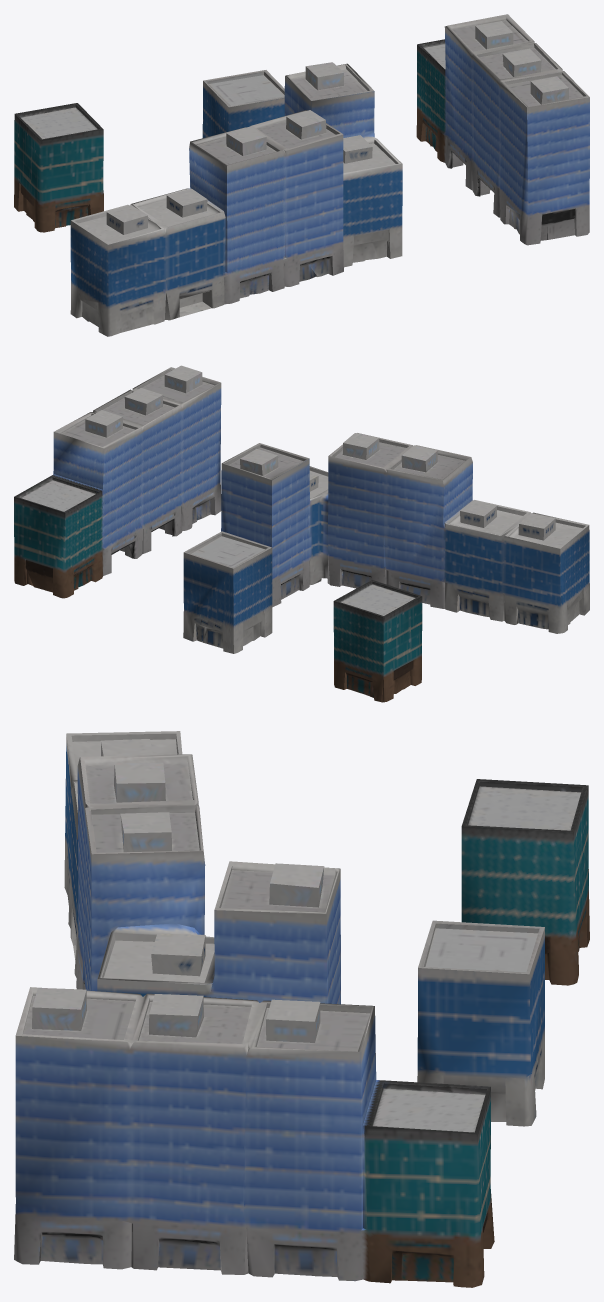
File: clod_town_c03_03_clod000.gltf
3 renders of one model, top to bottom at view 1: azimuth 30°, elevation 25°; view 2: azimuth 150°, elevation 25°; view 3: azimuth 270°, elevation 25°, orthographic. The views are drawn at different scales.
Parts seen in each view (by area): view 1: clod_town_c03_03_clod000_000_meshShape:remesh_mat; view 2: clod_town_c03_03_clod000_000_meshShape:remesh_mat; view 3: clod_town_c03_03_clod000_000_meshShape:remesh_mat.
Part boxes in pixels (x1,y1,x2,y2): clod_town_c03_03_clod000_000_meshShape:remesh_mat: [14, 14, 589, 336]; clod_town_c03_03_clod000_000_meshShape:remesh_mat: [14, 365, 589, 702]; clod_town_c03_03_clod000_000_meshShape:remesh_mat: [14, 731, 589, 1287].
Bounding box in the file's own units: 98.39 × 27.56 × 58.97.
Materials: 1 (1 with a texture image).
